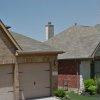Chimney: (37, 16, 60, 43)
